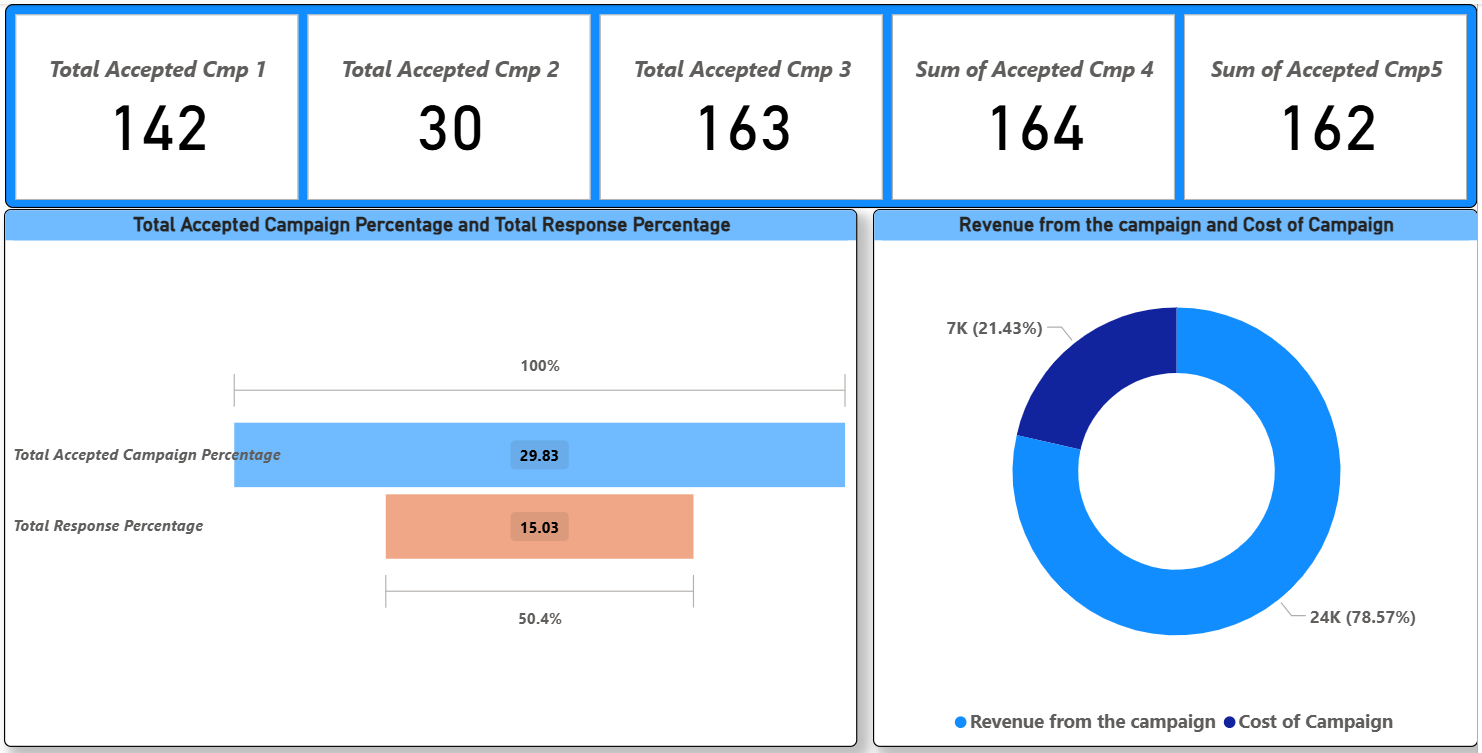

What the dashboard file says about the page in this screenshot:
{"tool":"powerbi","page":{"name":"Page 3","canvas":[1280,720],"ordinal":2},"visuals":[{"type":"cardVisual","title":"Total Accepted Cmp1","fields":{"Data":["Sum(marketing_campaign_cleaned.AcceptedCmp1)","Sum(marketing_campaign_cleaned.AcceptedCmp2)","Sum(marketing_campaign_cleaned.AcceptedCmp3)","Sum(marketing_campaign_cleaned.AcceptedCmp4)","Sum(marketing_campaign_cleaned.AcceptedCmp5)"]},"box":[10.2,0,1270.3,176.4],"z":0},{"type":"funnel","fields":{"Y":["marketing_campaign_cleaned.Total Accepted Percentage","marketing_campaign_cleaned.Total Response percentage"]},"box":[9.9,176.7,736.4,463.6],"z":1000},{"type":"donutChart","fields":{"Y":["Sum(marketing_campaign_cleaned.Z_Revenue)","Sum(marketing_campaign_cleaned.Z_CostContact)"]},"box":[759,176.7,521.6,463.6],"z":2000}]}

Visuals, with their boxes on the page's 1280x720 design canvas (x1, y1, x2, y2). These are canvas units, not pixel positions in the 1482x753 screenshot, which may show the page scaled, cropped or inside an application window:
"Total Accepted Cmp1" cardVisual: {"left": 10, "top": 0, "right": 1280, "bottom": 176}
funnel - marketing_campaign_cleaned.Total Accepted Percentage x marketing_campaign_cleaned.Total Response percentage: {"left": 10, "top": 177, "right": 746, "bottom": 640}
donutChart - Sum(marketing_campaign_cleaned.Z_Revenue) x Sum(marketing_campaign_cleaned.Z_CostContact): {"left": 759, "top": 177, "right": 1281, "bottom": 640}
